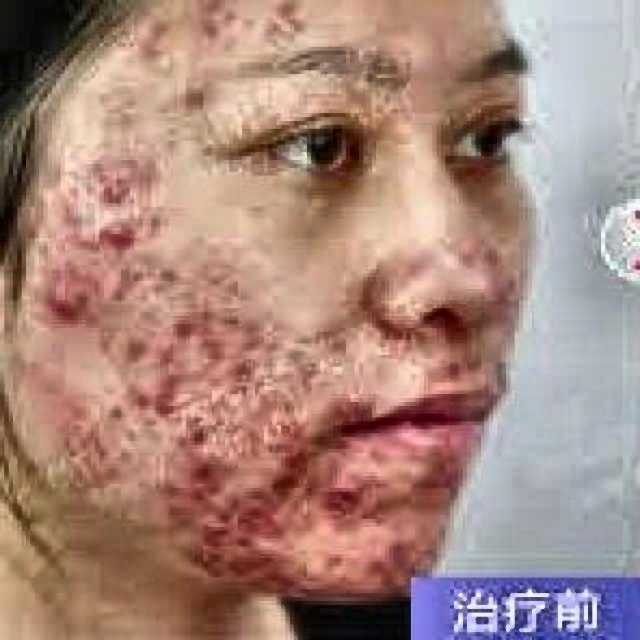nodule: (56, 402, 110, 494), (195, 386, 255, 453), (305, 466, 363, 521), (370, 312, 417, 363), (220, 525, 276, 566), (266, 437, 311, 488), (335, 283, 381, 330), (225, 480, 285, 515), (169, 492, 218, 532), (48, 262, 82, 318), (350, 538, 387, 586), (264, 4, 302, 49), (121, 310, 151, 365), (190, 330, 227, 372), (257, 544, 294, 584), (311, 384, 357, 416), (383, 529, 430, 560), (313, 548, 346, 592), (199, 529, 236, 568), (86, 324, 125, 361), (309, 320, 342, 361), (149, 372, 186, 408), (134, 18, 173, 52), (8, 350, 49, 382), (49, 195, 86, 230), (91, 214, 130, 246), (177, 460, 225, 486), (54, 226, 95, 256), (257, 412, 292, 447), (426, 349, 469, 377), (182, 84, 218, 117), (138, 416, 171, 452), (205, 304, 238, 338), (101, 170, 128, 210), (76, 272, 108, 304), (110, 270, 143, 300), (97, 394, 130, 424), (112, 373, 147, 400), (244, 320, 279, 347), (164, 304, 186, 344), (194, 0, 247, 16), (177, 425, 208, 451), (82, 150, 113, 176), (114, 417, 145, 443), (138, 211, 169, 236), (199, 27, 231, 51), (227, 359, 255, 386), (385, 476, 413, 502), (130, 154, 160, 178), (145, 263, 177, 285), (164, 281, 197, 302), (366, 464, 394, 488), (201, 281, 238, 299), (203, 261, 227, 283), (220, 232, 244, 254), (197, 232, 220, 254)
